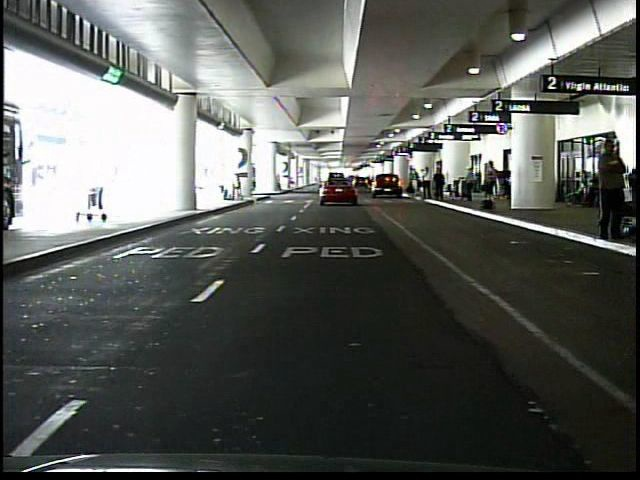person: (591, 137, 625, 244), (481, 161, 496, 210), (463, 166, 477, 203), (433, 168, 446, 203), (422, 165, 434, 200), (408, 167, 419, 198), (228, 173, 240, 201), (274, 173, 283, 190)
